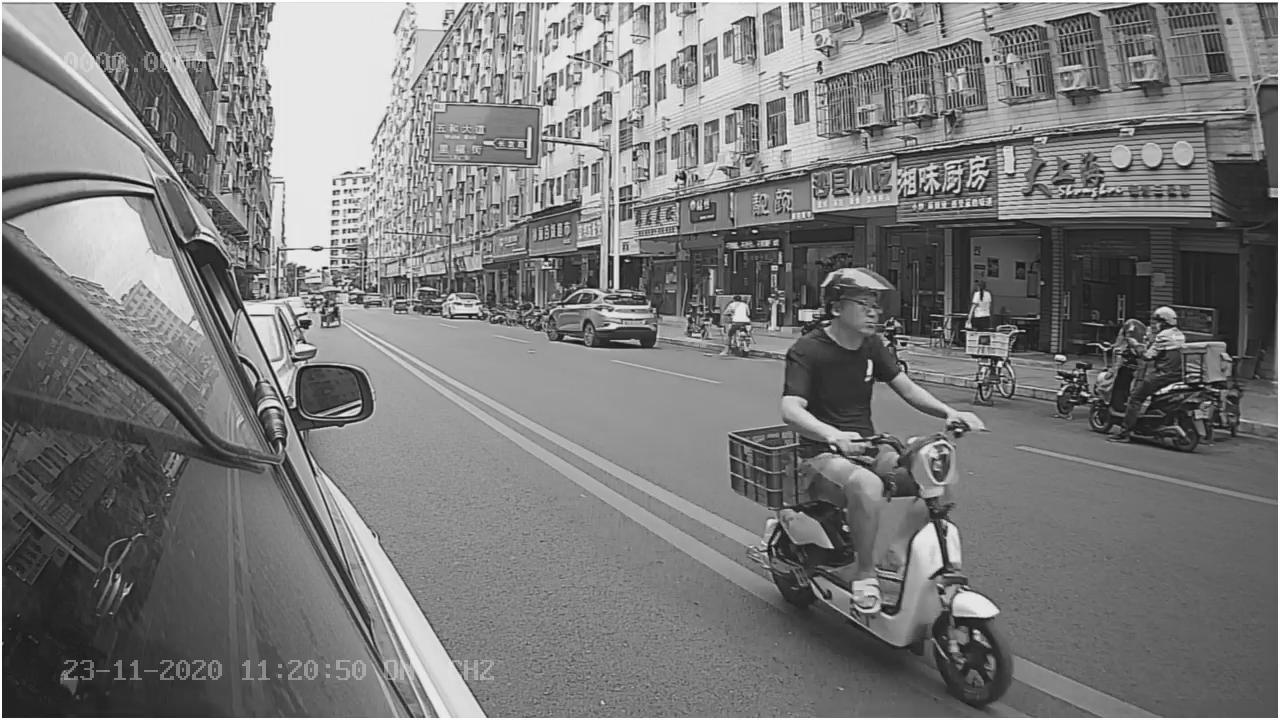person: (773, 262, 986, 431)
